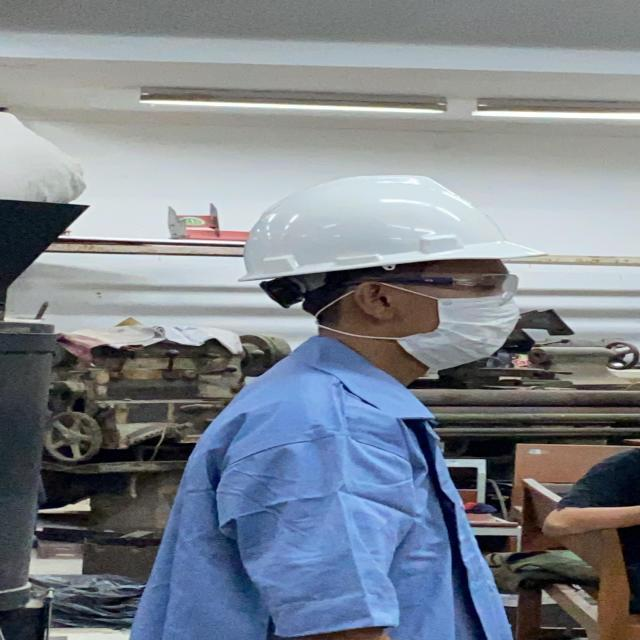glasses: (357, 270, 529, 306)
